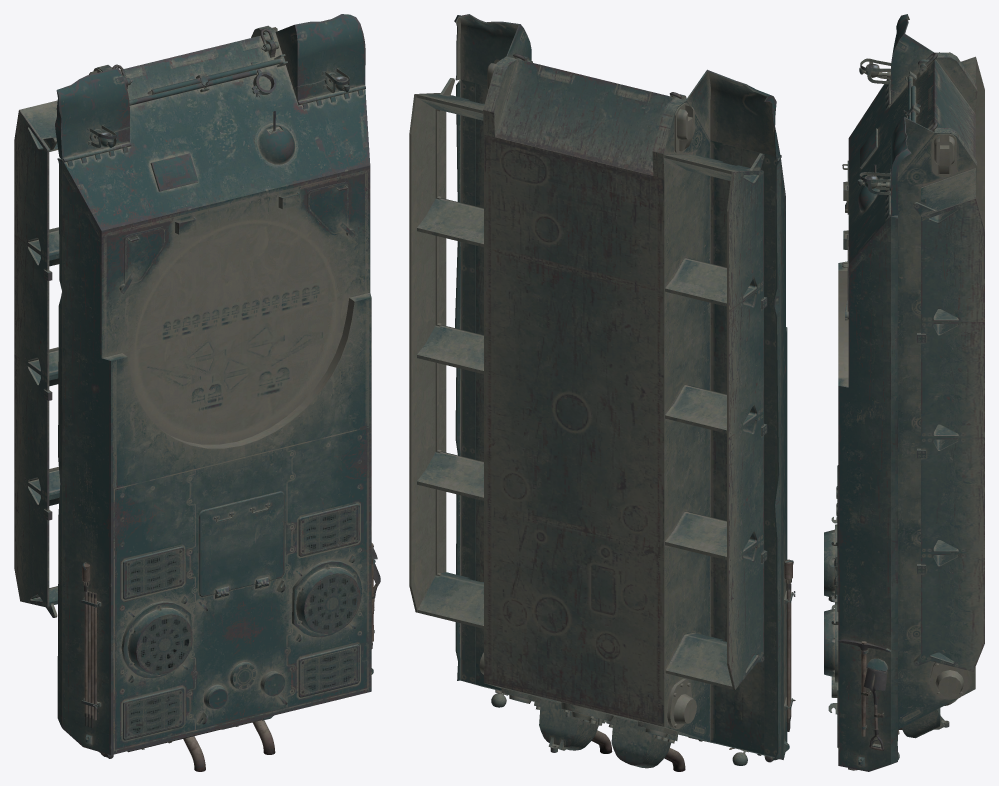
File: Hull.glb
3 renders of one model, left to right at view 1: azimuth 30°, elevation 25°; view 2: azimuth 150°, elevation 25°; view 3: azimuth 270°, elevation 25°, orthographic. The views are drawn at different scales.
Visible parts, largest first — view 1: set_0_group_0; view 2: set_0_group_0; view 3: set_0_group_0.
Part boxes in pixels (x1,y1,x2,y2): set_0_group_0: (14, 14, 380, 771); set_0_group_0: (409, 14, 795, 771); set_0_group_0: (824, 14, 984, 771).
Bounding box in the file's own units: 3.39 × 7.21 × 1.57.
Materials: 1 (1 with a texture image).
